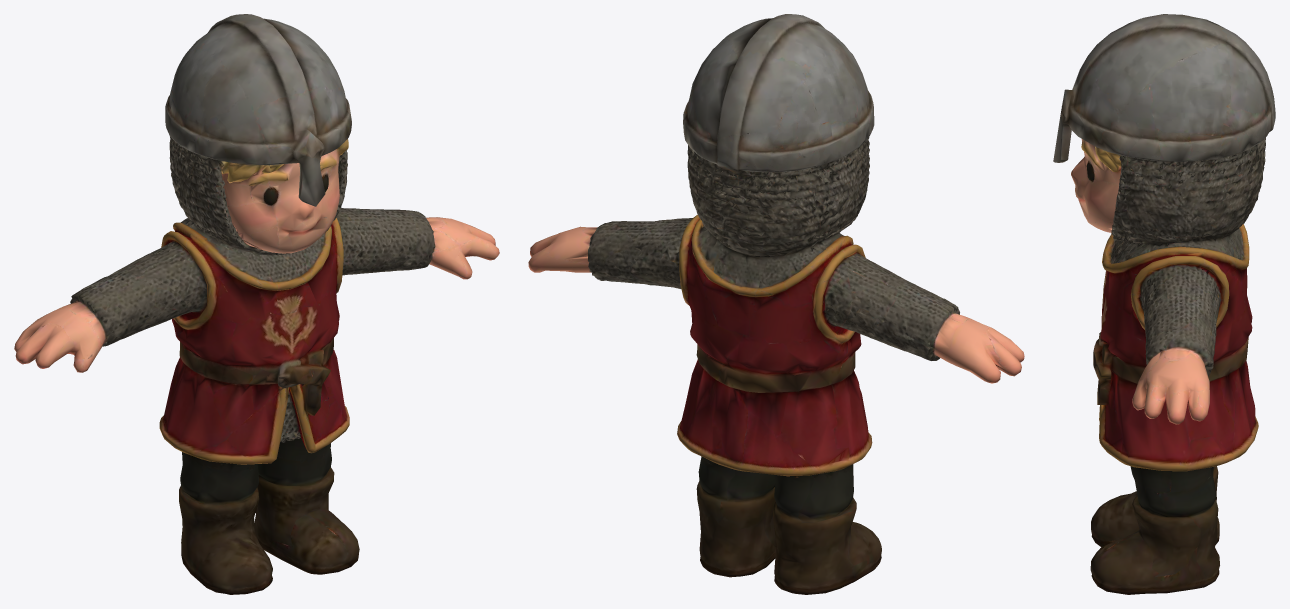
The model's file is a3D-soldado-rubio.glb.
The picture shows the model from 3 angles, left to right: view 1: azimuth 30°, elevation 25°; view 2: azimuth 150°, elevation 25°; view 3: azimuth 270°, elevation 25°; orthographic projection. The views are drawn at different scales.
Visible parts, largest first — view 1: geometry_0; view 2: geometry_0; view 3: geometry_0.
Boxes of the visible parts, x1,y1,x2,y2 form: geometry_0: (14, 14, 499, 594); geometry_0: (528, 14, 1024, 594); geometry_0: (1053, 14, 1275, 594).
Bounding box in the file's own units: 1.78 × 1.9 × 0.7059.
Materials: 1 (1 with a texture image).
